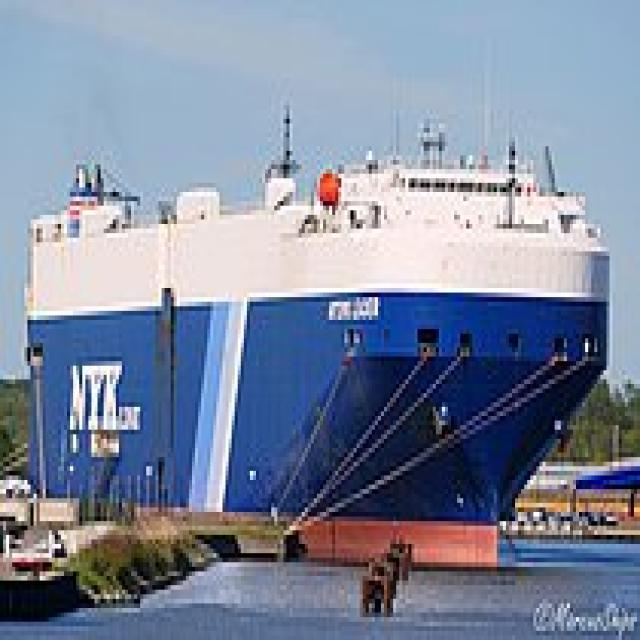Carrier: (18, 92, 610, 580)
